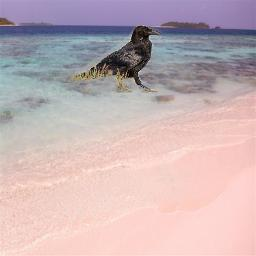Crow: (71, 25, 162, 93)
